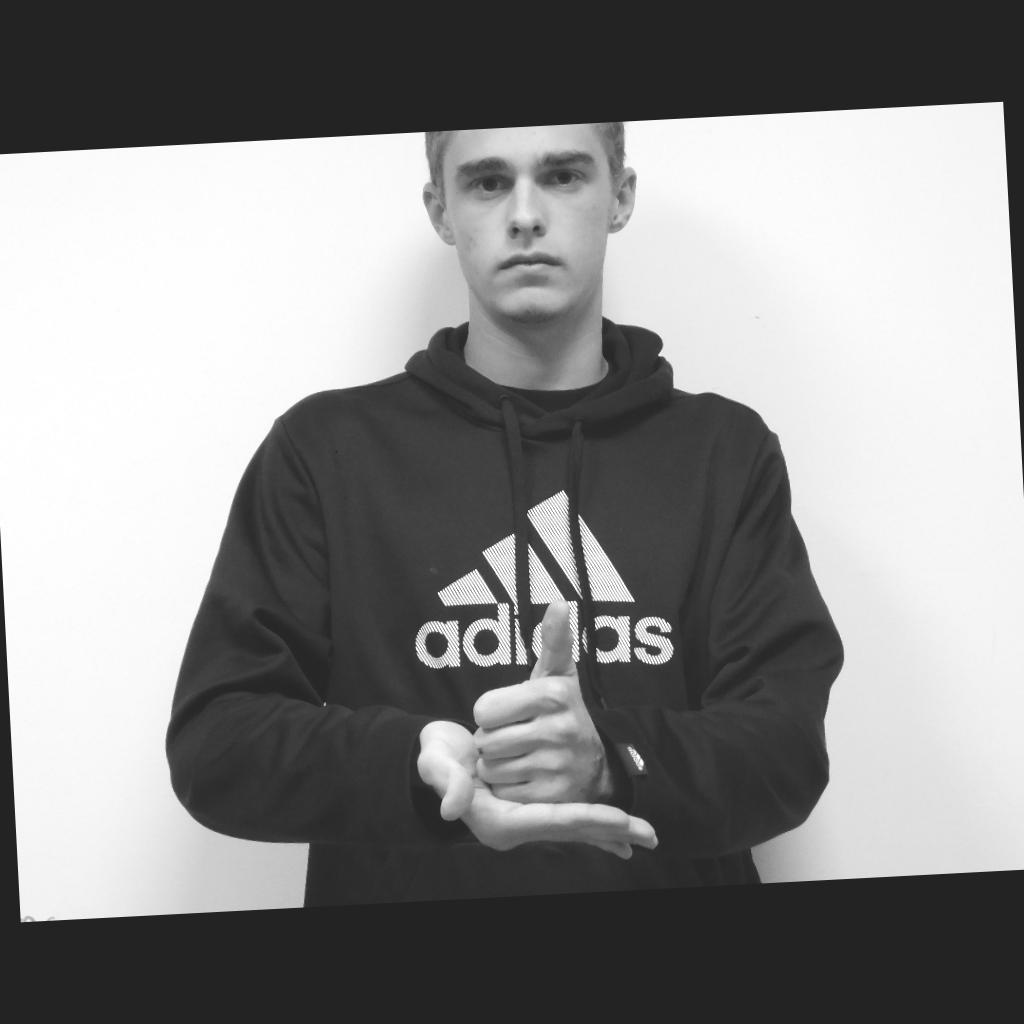help: (410, 595, 660, 869)
